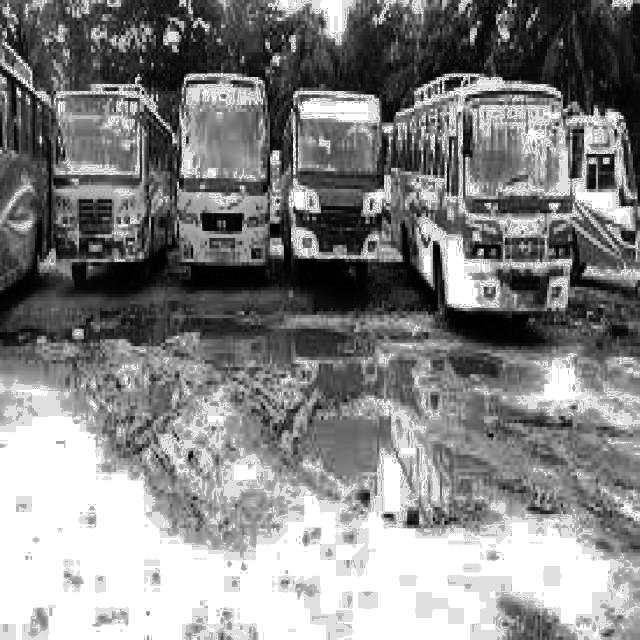Bus: (388, 77, 578, 327), (47, 56, 167, 284), (172, 45, 279, 293), (281, 58, 391, 287), (1, 39, 51, 303), (571, 105, 639, 295)
